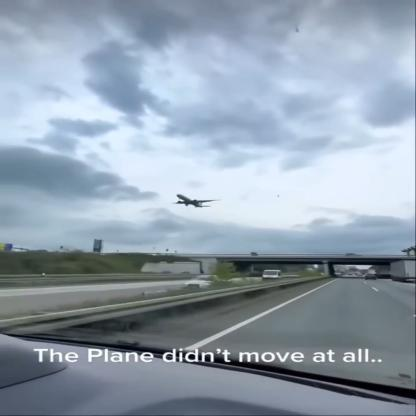plane: (173, 191, 225, 213)
